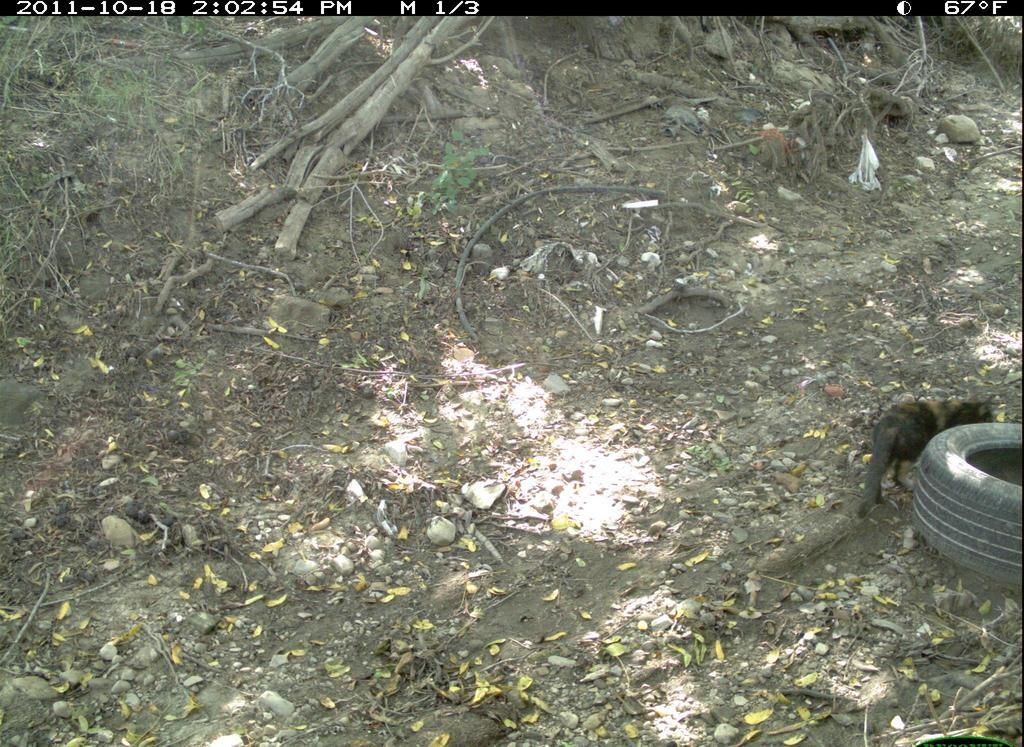cat: (845, 386, 1004, 520)
